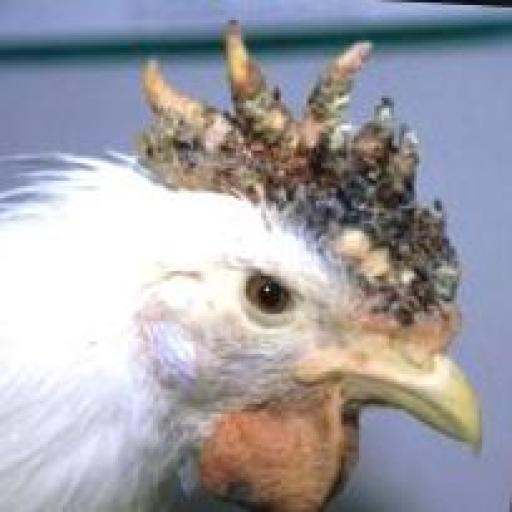disease: (118, 10, 463, 348)
